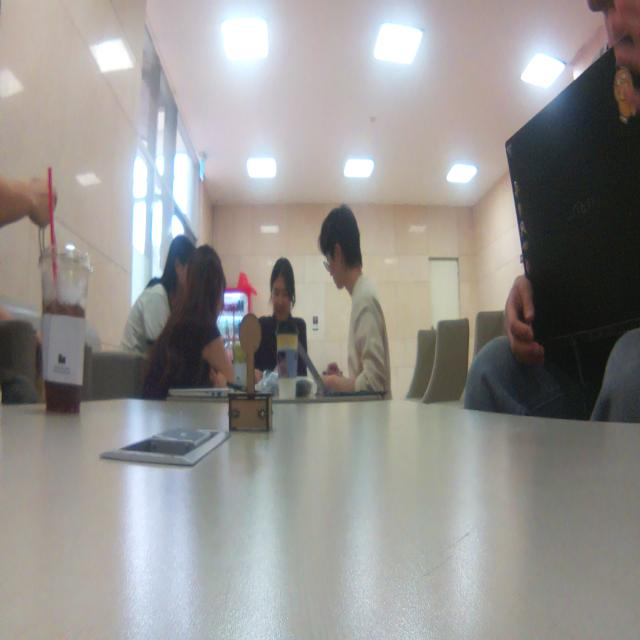target: (227, 314, 273, 432)
